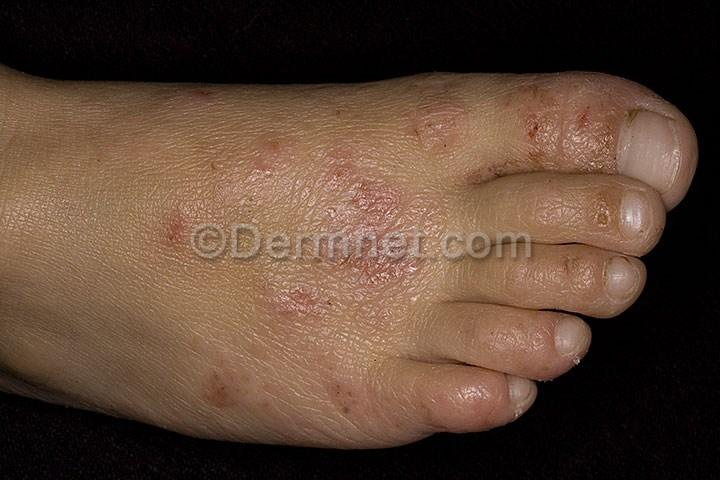eritema 1: (517, 74, 638, 175)
excoriacion 1: (285, 175, 416, 310), (526, 82, 601, 153)
exudacion 1: (162, 133, 428, 327)
xerosis 1: (528, 77, 616, 171)
